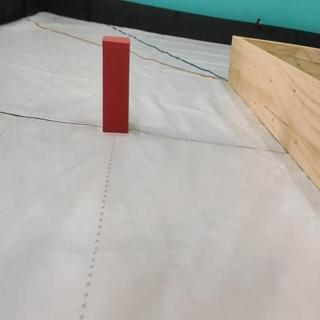redbox: (101, 33, 131, 132)
